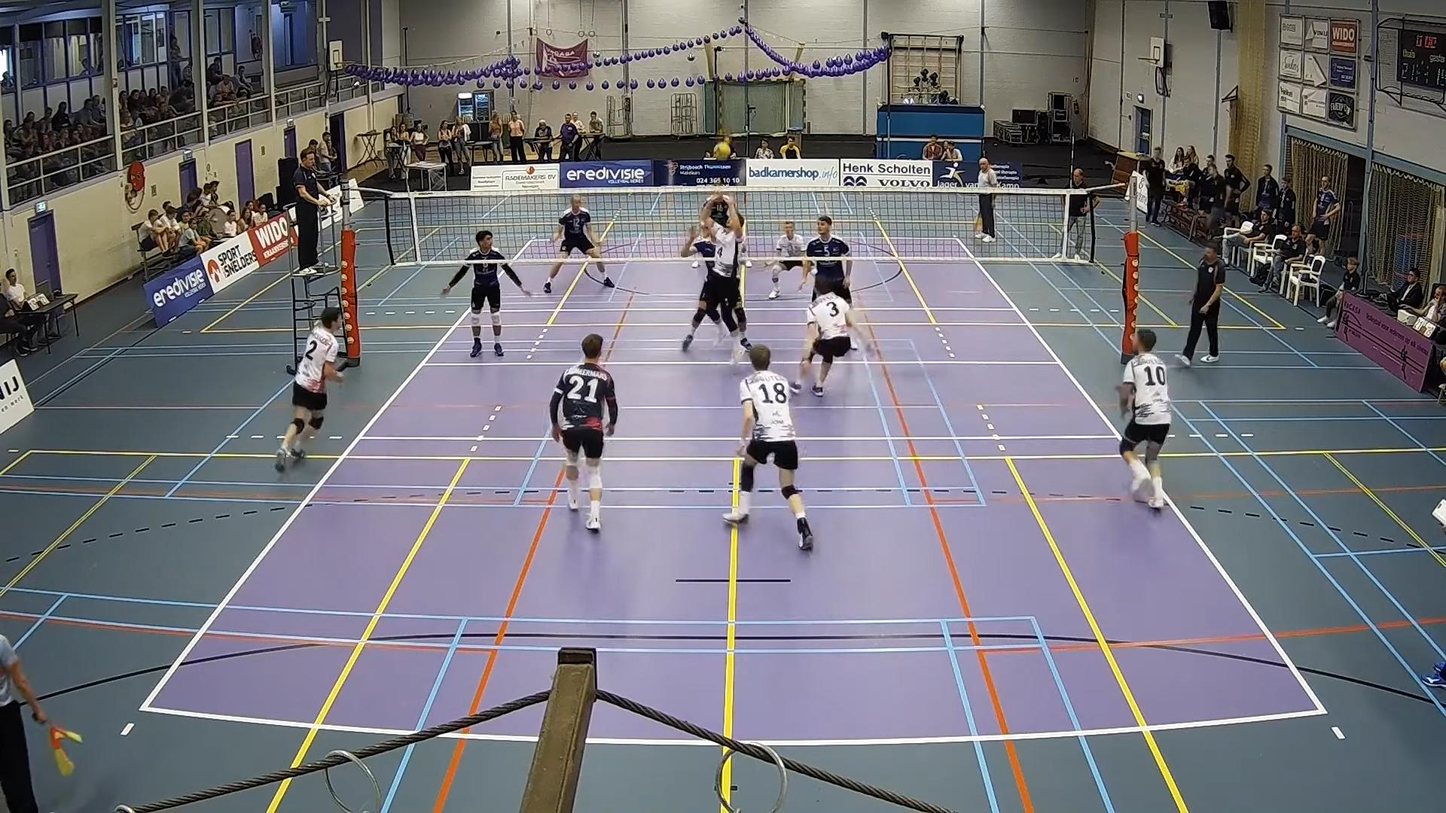Player: (724, 345, 813, 550), (549, 334, 618, 531), (441, 230, 530, 357), (275, 307, 343, 470), (1119, 329, 1170, 509), (793, 279, 857, 396), (544, 196, 615, 293), (800, 215, 851, 304), (769, 220, 808, 298), (690, 293, 725, 346), (739, 222, 752, 266)
Set: (680, 206, 760, 356)
ball: (711, 142, 735, 158)
